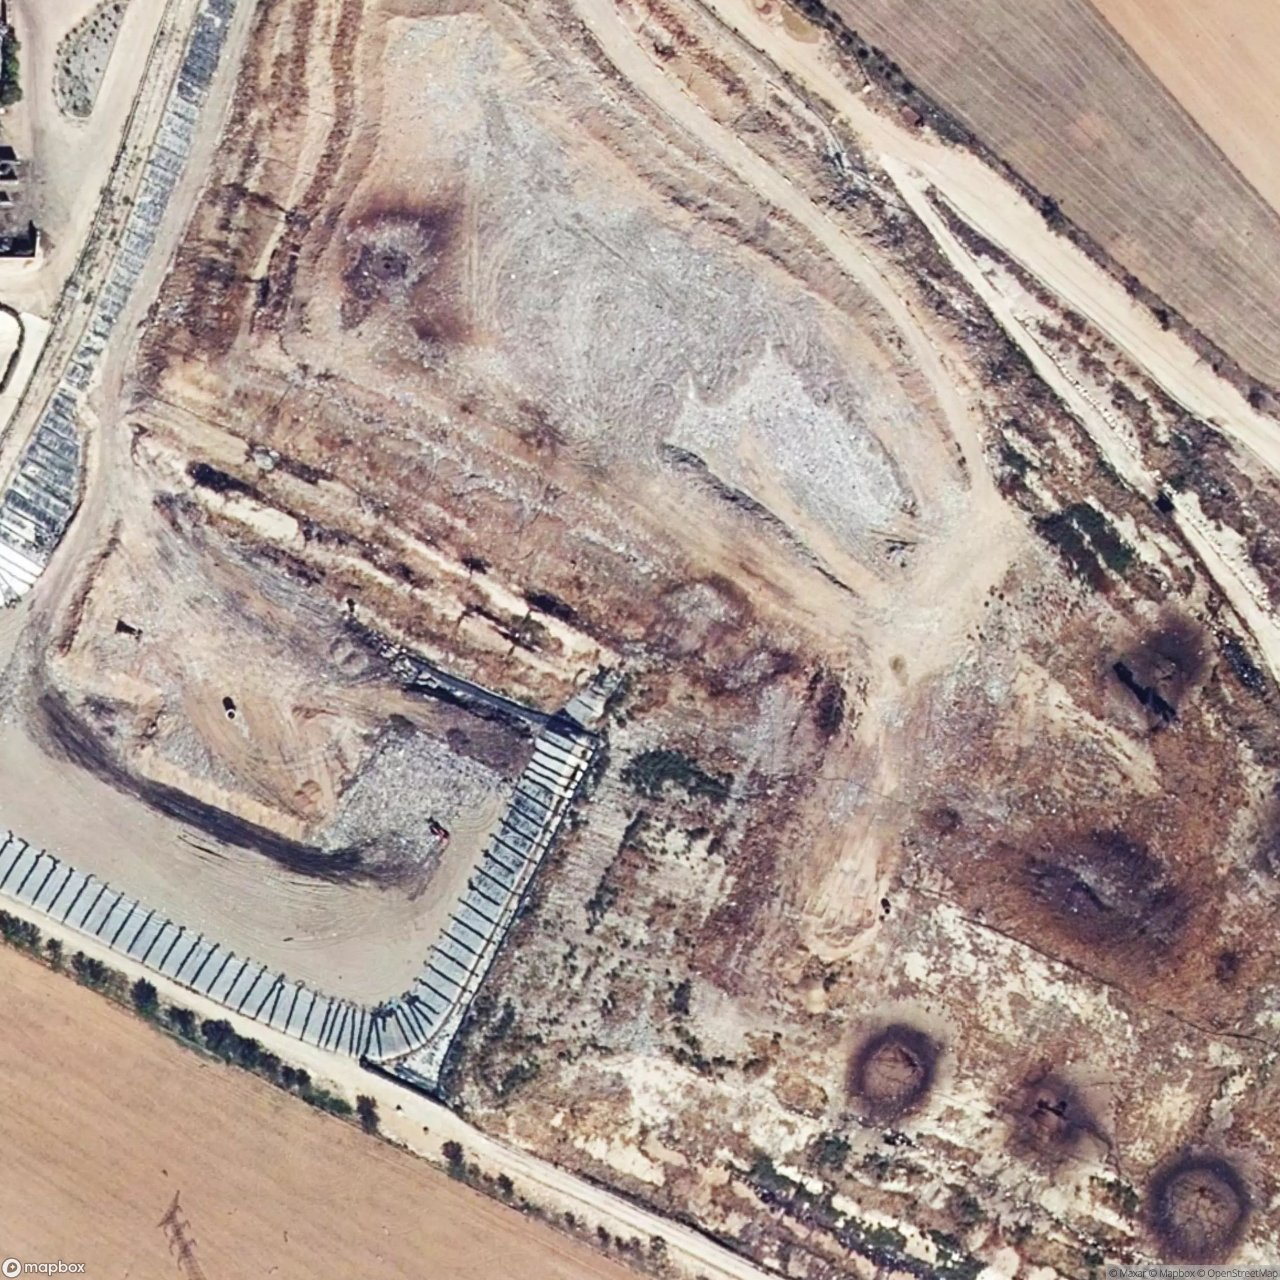dump_site: (421, 578, 996, 1239), (293, 707, 511, 897)
